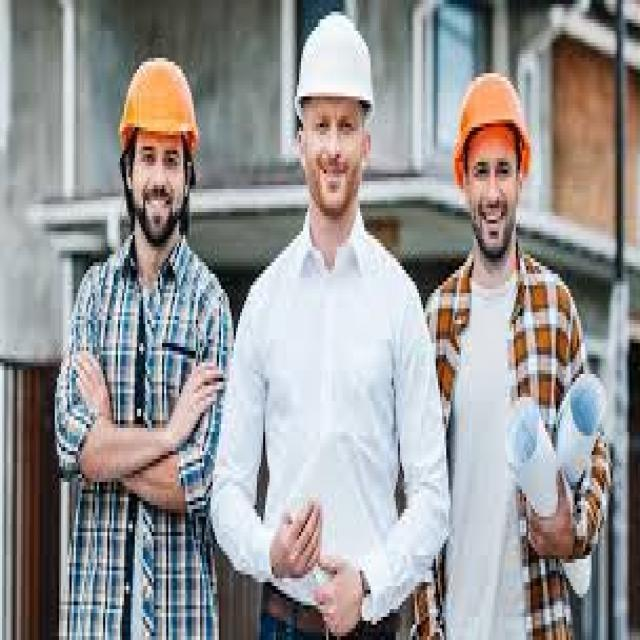safetyhelmet: (295, 15, 379, 194), (447, 70, 544, 221), (114, 47, 208, 196)
